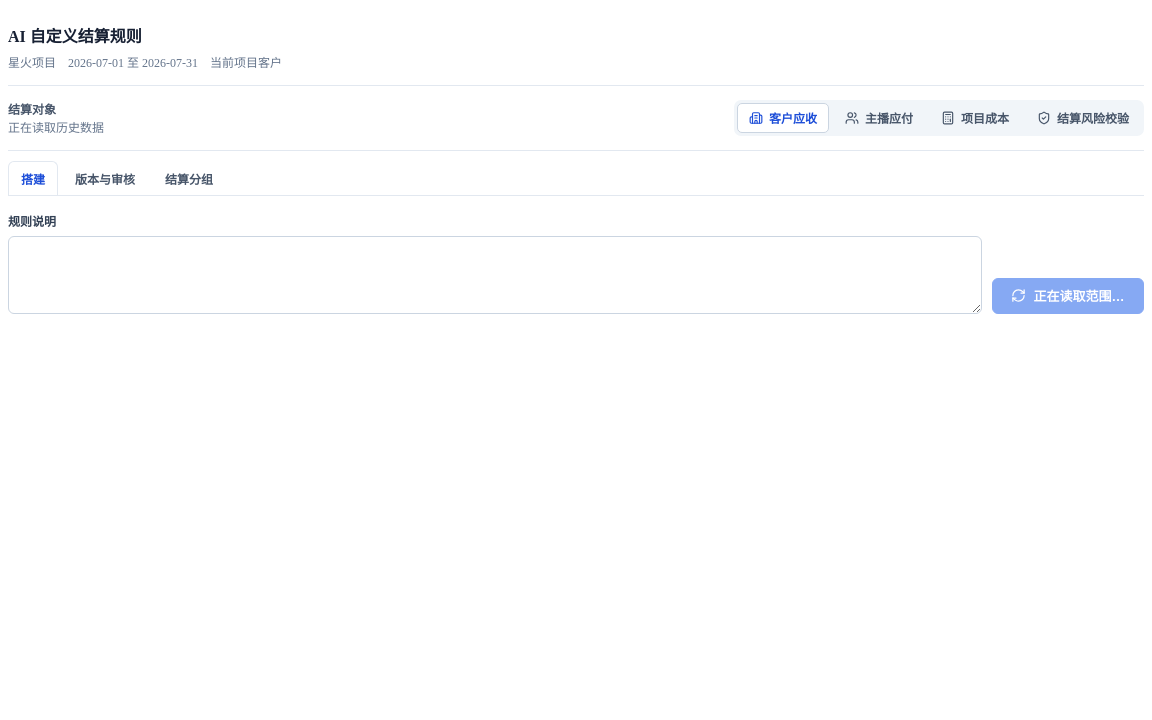
Scenario: CustomSettlementRuleWorkspace › restores complete v2 summary parity from one authoritative session GET
This screenshot has width=1152, height=720.
Click the button "主播应付" at (879, 118), box [833,103,925,133]
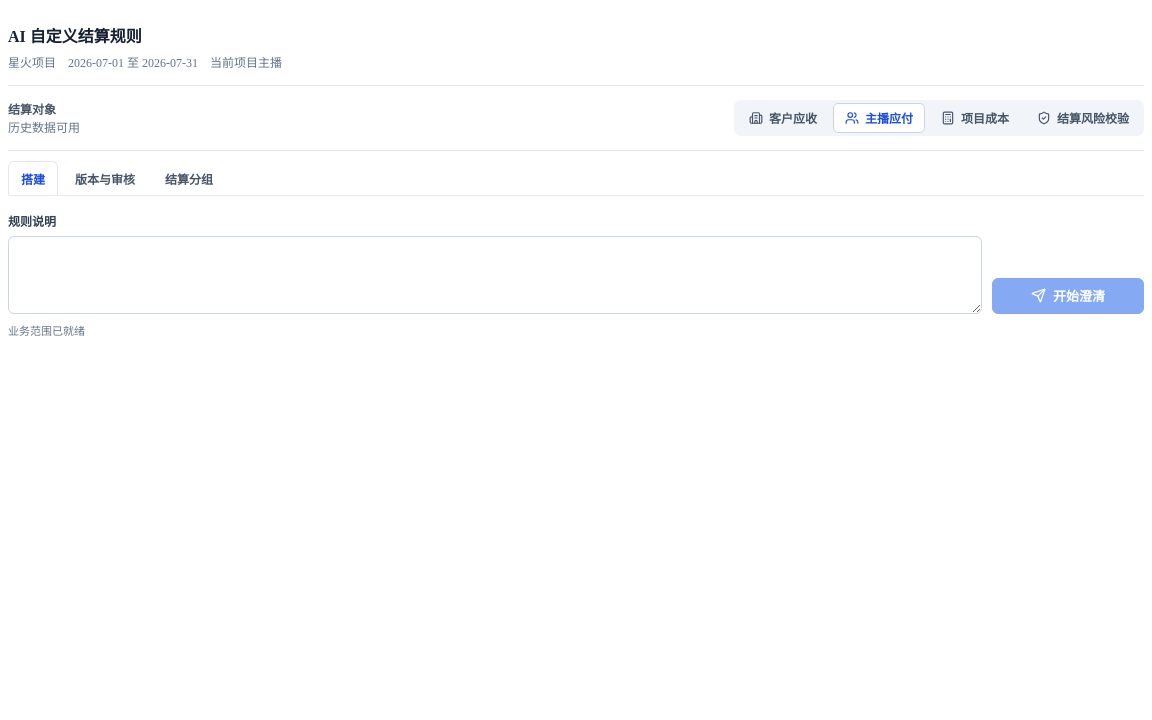
Type "每场按直播时长和单价结算" into the text box labelled "规则说明" at (495, 275), box [8,236,982,314]
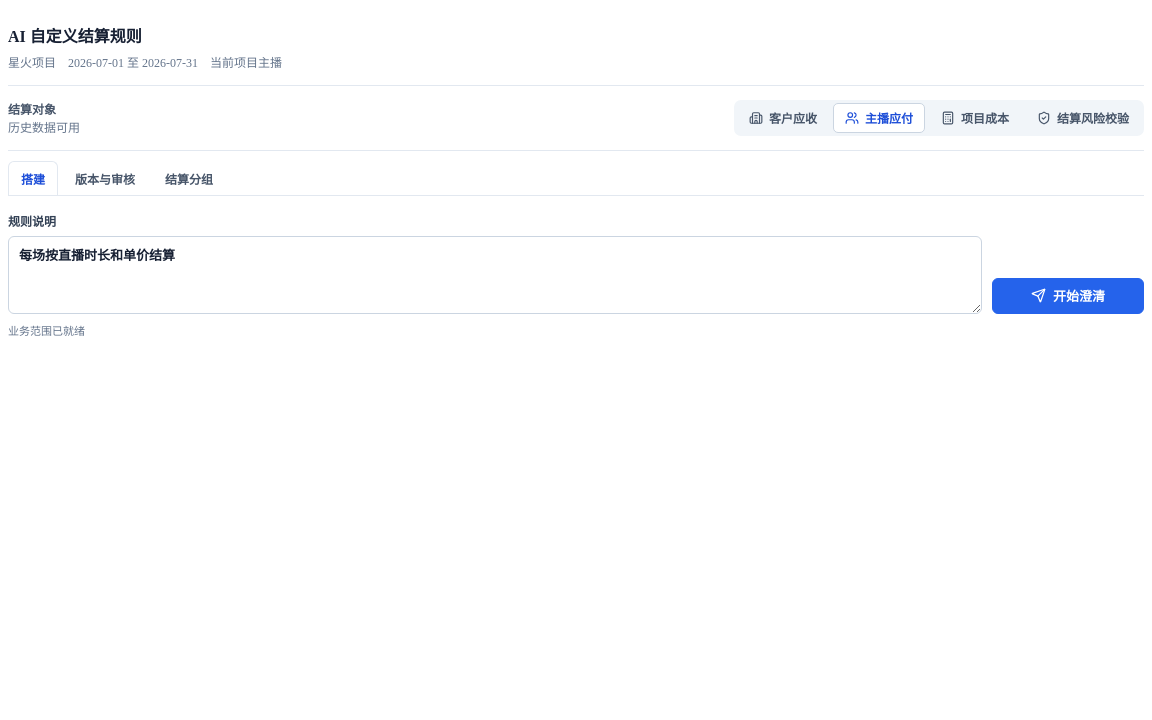
Click the button "开始澄清" at (1068, 296), box [992,278,1144,314]
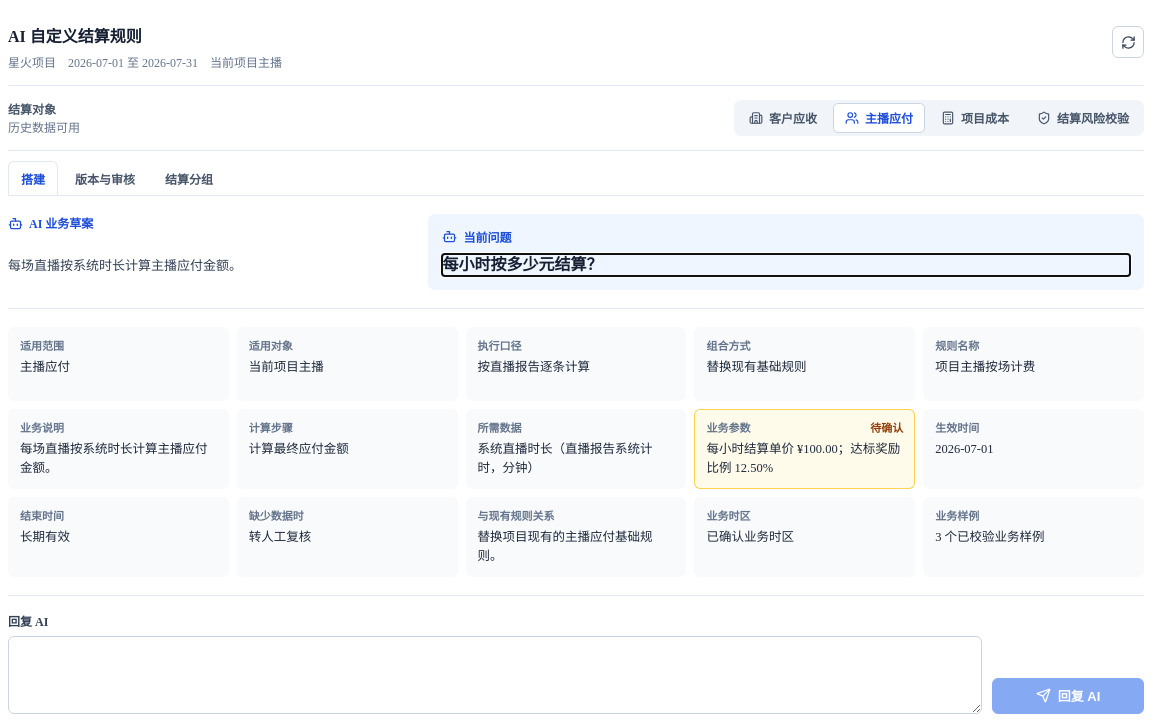
Now the heading "每小时按多少元结算？" is shown, box [442,256,602,273]
Click the button named "刷新会话" at (1128, 42), box [1112,26,1144,58]
(page scrolled)
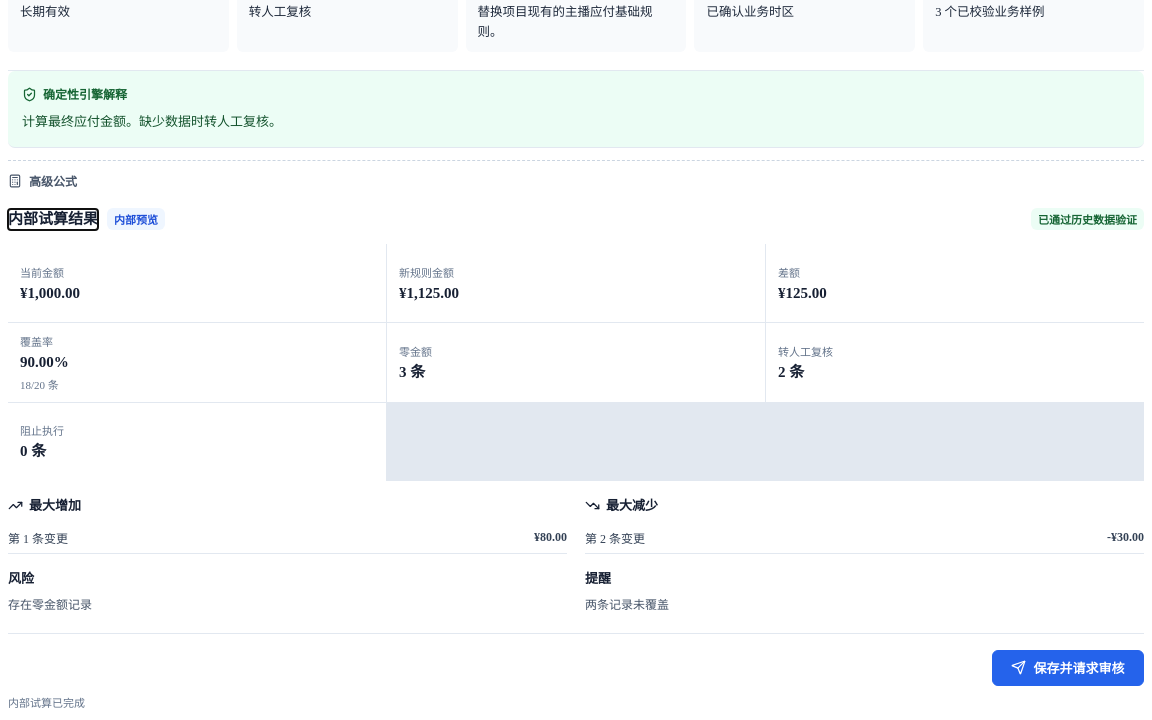
Now the element "内部试算" shows "¥80.00", box [534,530,567,544]
Now the element "内部试算" shows "存在零金额记录", box [8,598,92,612]
Now the element "内部试算" shows "两条记录未覆盖", box [585,598,669,612]
